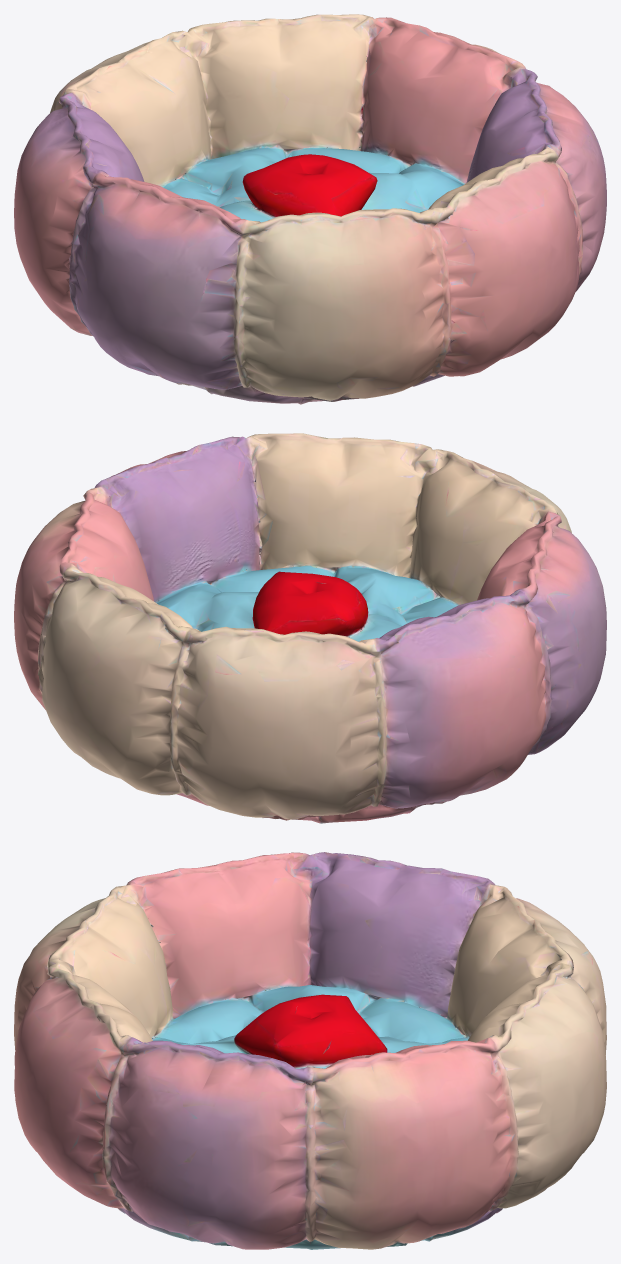
Rendered from nest.glb.
3 renders of one model, top to bottom at view 1: azimuth 30°, elevation 25°; view 2: azimuth 150°, elevation 25°; view 3: azimuth 270°, elevation 25°, orthographic. The views are drawn at different scales.
Visible parts, largest first — view 1: Mesh_0; view 2: Mesh_0; view 3: Mesh_0.
Boxes of the visible parts, <box> form: Mesh_0: <box>14,14,606,404</box>; Mesh_0: <box>14,433,606,823</box>; Mesh_0: <box>14,852,606,1249</box>.
Bounding box in the file's own units: 1.91 × 0.77 × 1.91.
Materials: 1 (1 with a texture image).
